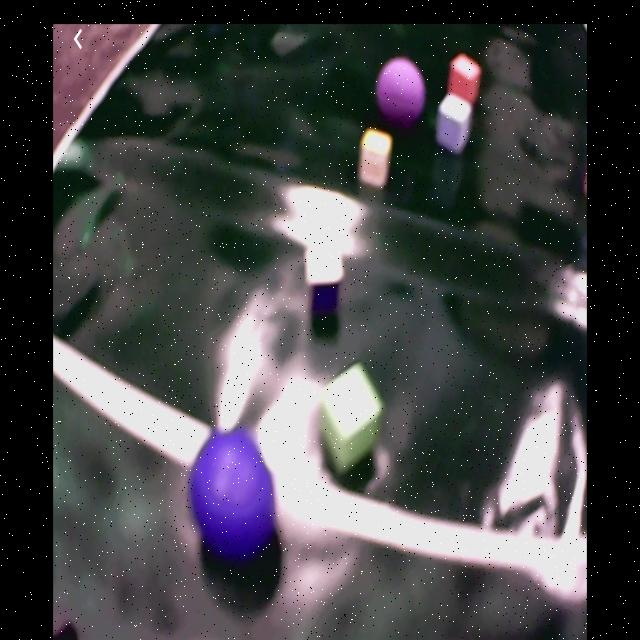ball: (192, 432, 277, 558), (378, 57, 426, 127)
